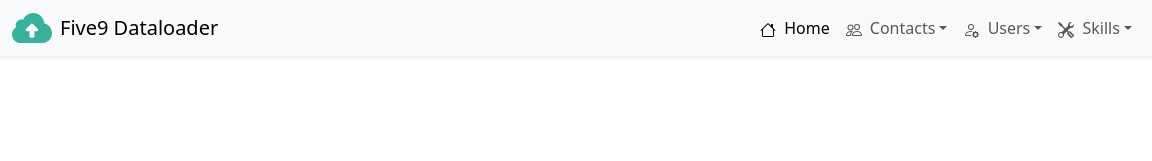
NavbarComponent › renders dropdown item for Skills
Click the button "Skills": (1095, 28) [1050, 8, 1140, 48]
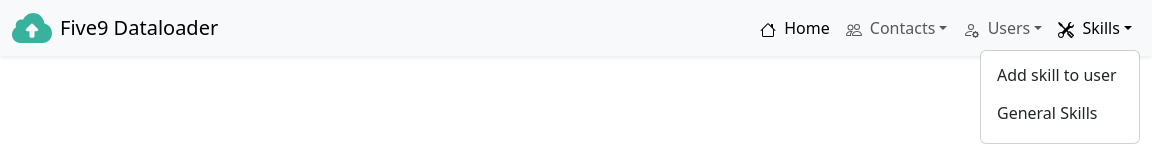
Result: the text "Add skill to user" is shown at [997, 63, 1117, 87]
